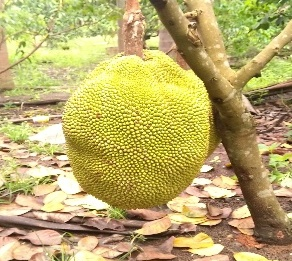Mit: (61, 51, 216, 211)
